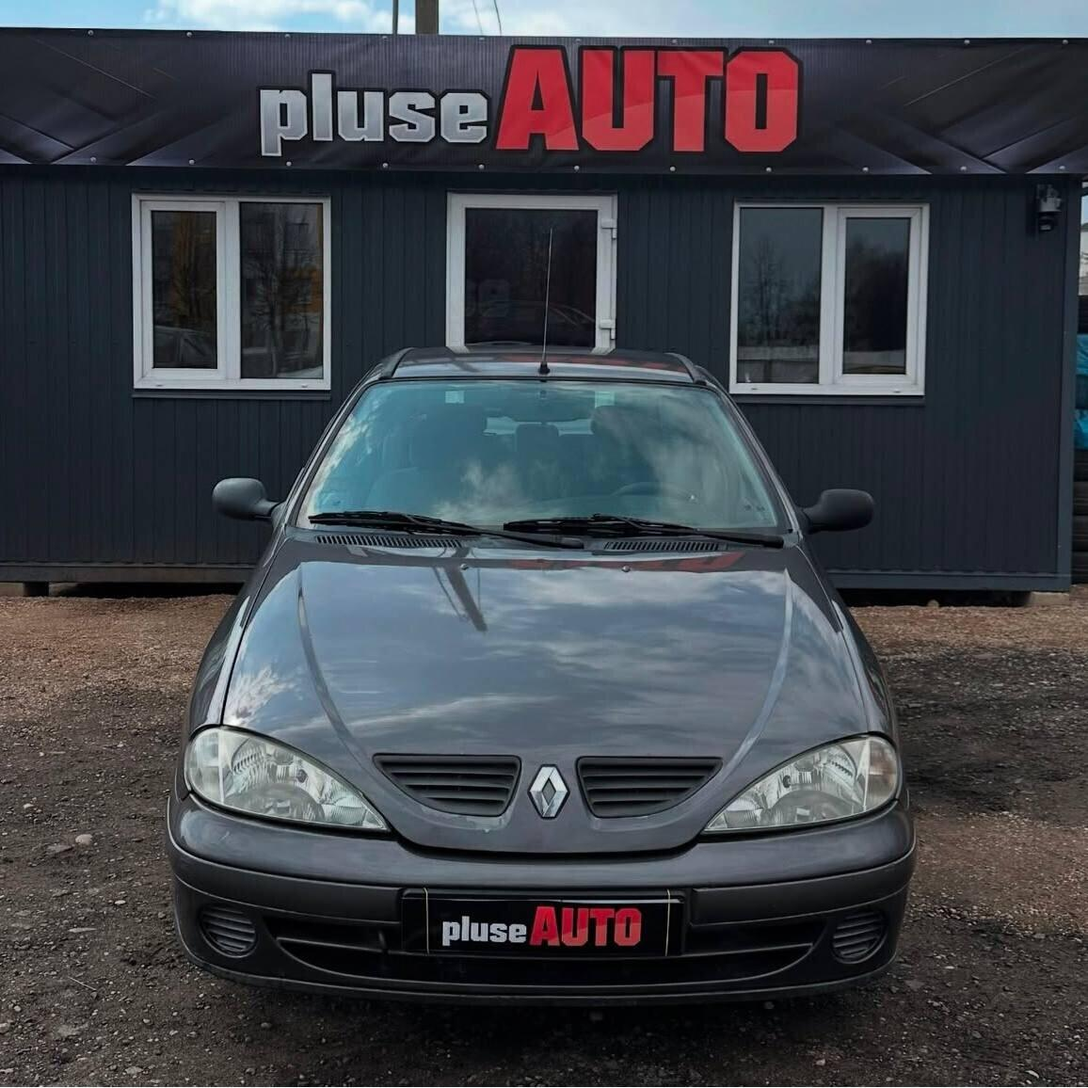Megane_1999-2003: (166, 340, 925, 1037)
